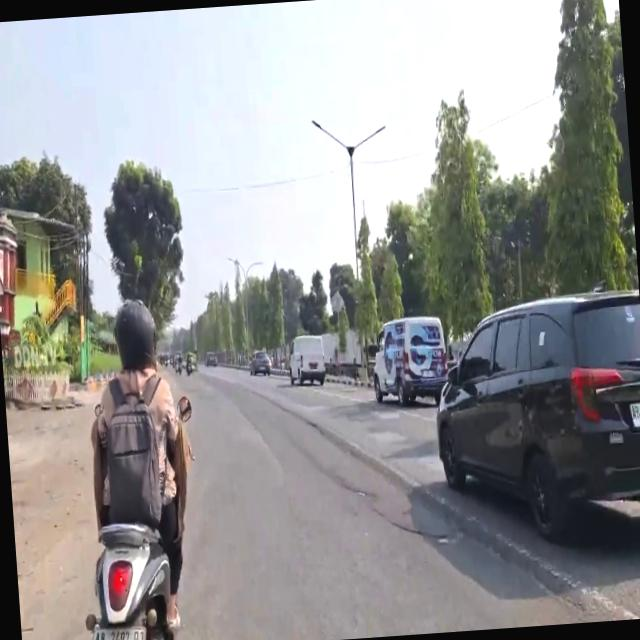WithHelmet: (82, 297, 195, 635)
